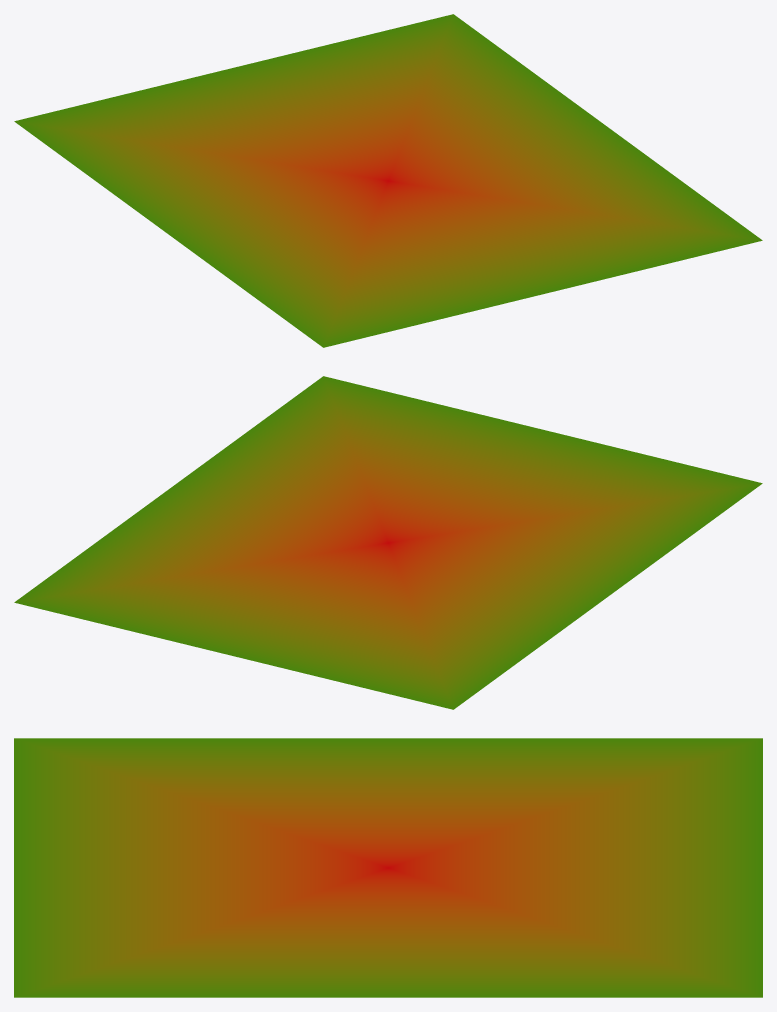
Rendered from Xanadu_LOD3_Var8_siroZ.fbx.
3 views of the same model, one above another, from view 1: azimuth 30°, elevation 25°; view 2: azimuth 150°, elevation 25°; view 3: azimuth 270°, elevation 25° (orthographic). The views are drawn at different scales.
Parts seen in each view (by area): view 1: _be1e_Var8_LOD3; view 2: _be1e_Var8_LOD3; view 3: _be1e_Var8_LOD3.
Part boxes in pixels (x1,y1,x2,y2): _be1e_Var8_LOD3: (14,14,762,347); _be1e_Var8_LOD3: (14,376,762,709); _be1e_Var8_LOD3: (14,738,762,997).
Size of the model in its own units: 39.63 by 7.63e-06 by 48.33.
